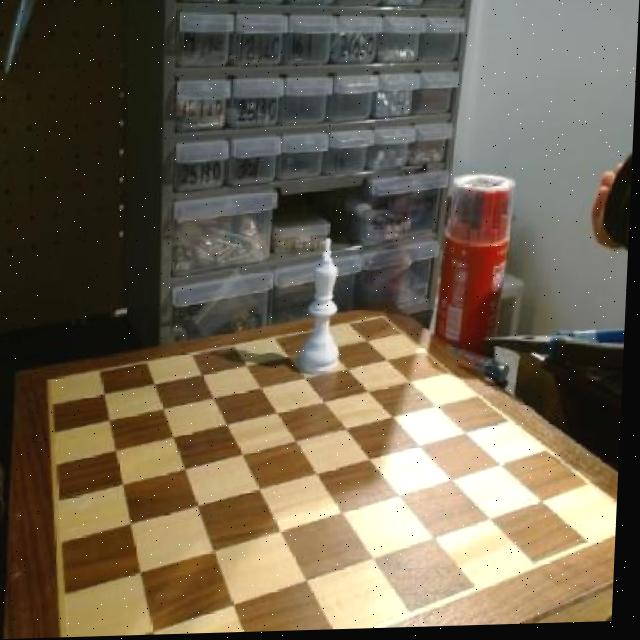white-bishop: (301, 238, 348, 377)
